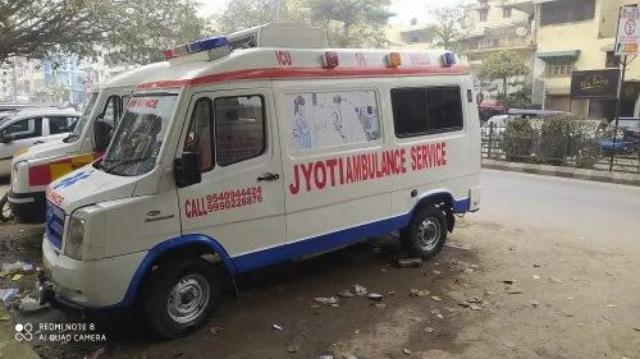ambulance: (46, 21, 494, 319)
